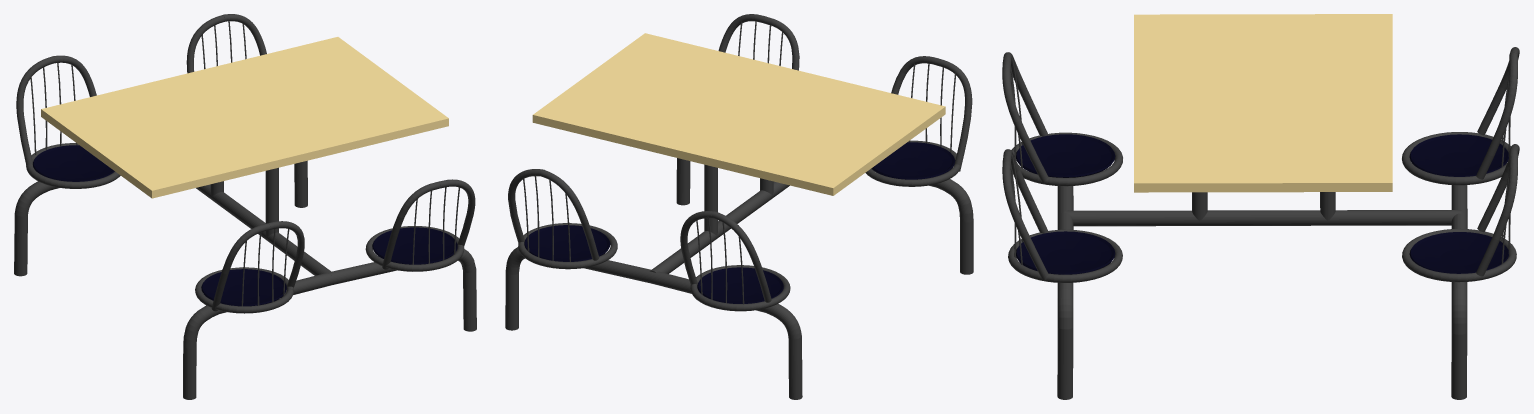
Rendered from Mesa.obj.
The picture shows the model from 3 angles, left to right: view 1: azimuth 30°, elevation 25°; view 2: azimuth 150°, elevation 25°; view 3: azimuth 270°, elevation 25°; orthographic projection. The views are drawn at different scales.
Visible parts, largest first — view 1: Mesh.007_Plane_Plane.001, Mesh.018_Sphere.001_Sphere.003, Mesh.016_Sphere.004_Sphere.006, Mesh.009_Sphere.005_Sphere.007, Mesh.031_Cylinder.005_Cylinder, Mesh.002_Cylinder.003_Cylinder, Mesh.003_Cylinder.002_Cylinder, Mesh.025_Cylinder.004_Cylinder, Mesh.001_Mesh.021_Cylinder.010, Mesh.004_Cylinder.011_Cylinder, Mesh.006_Cylinder.012_Cylinder, Mesh.037_Cylinder.009_Cylinder (+9 smaller); view 2: Mesh.007_Plane_Plane.001, Mesh.027_Sphere.002_Sphere.004, Mesh.016_Sphere.004_Sphere.006, Mesh.009_Sphere.005_Sphere.007, Mesh.025_Cylinder.004_Cylinder, Mesh.034_Cylinder.006_Cylinder, Mesh.003_Cylinder.002_Cylinder, Mesh.031_Cylinder.005_Cylinder, Mesh.037_Cylinder.009_Cylinder, Mesh.029_Cylinder_Cylinder.006, Mesh.022_Mesh.018_Cylinder.014, Mesh.001_Mesh.021_Cylinder.010 (+9 smaller); view 3: Mesh.007_Plane_Plane.001, Mesh.003_Cylinder.002_Cylinder, Mesh.016_Sphere.004_Sphere.006, Mesh.018_Sphere.001_Sphere.003, Mesh.009_Sphere.005_Sphere.007, Mesh.027_Sphere.002_Sphere.004, Mesh.002_Cylinder.003_Cylinder, Mesh.034_Cylinder.006_Cylinder, Mesh.029_Cylinder_Cylinder.006, Mesh.004_Cylinder.011_Cylinder, Mesh.037_Cylinder.009_Cylinder, Mesh.001_Mesh.021_Cylinder.010 (+10 smaller).
Part boxes in pixels (<box>): Mesh.007_Plane_Plane.001: <box>41,37,448,198</box>; Mesh.018_Sphere.001_Sphere.003: <box>372,227,457,264</box>; Mesh.016_Sphere.004_Sphere.006: <box>201,269,286,306</box>; Mesh.009_Sphere.005_Sphere.007: <box>33,145,114,181</box>; Mesh.031_Cylinder.005_Cylinder: <box>183,273,333,399</box>; Mesh.002_Cylinder.003_Cylinder: <box>330,249,476,331</box>; Mesh.003_Cylinder.002_Cylinder: <box>196,184,331,275</box>; Mesh.025_Cylinder.004_Cylinder: <box>14,181,59,276</box>; Mesh.001_Mesh.021_Cylinder.010: <box>195,267,293,313</box>; Mesh.004_Cylinder.011_Cylinder: <box>365,226,464,271</box>; Mesh.006_Cylinder.012_Cylinder: <box>16,56,57,164</box>; Mesh.037_Cylinder.009_Cylinder: <box>26,143,120,188</box>; Mesh.007_Plane_Plane.001: <box>532,33,945,195</box>; Mesh.027_Sphere.002_Sphere.004: <box>524,225,610,261</box>; Mesh.016_Sphere.004_Sphere.006: <box>872,142,955,179</box>; Mesh.009_Sphere.005_Sphere.007: <box>697,267,783,303</box>; Mesh.025_Cylinder.004_Cylinder: <box>650,271,802,399</box>; Mesh.034_Cylinder.006_Cylinder: <box>505,247,652,330</box>; Mesh.003_Cylinder.002_Cylinder: <box>650,181,789,273</box>; Mesh.031_Cylinder.005_Cylinder: <box>871,168,973,274</box>; Mesh.037_Cylinder.009_Cylinder: <box>690,265,790,311</box>; Mesh.029_Cylinder_Cylinder.006: <box>518,223,617,269</box>; Mesh.022_Mesh.018_Cylinder.014: <box>935,58,972,171</box>; Mesh.001_Mesh.021_Cylinder.010: <box>865,140,960,186</box>; Mesh.007_Plane_Plane.001: <box>1134,14,1392,192</box>; Mesh.003_Cylinder.002_Cylinder: <box>1064,210,1461,226</box>; Mesh.016_Sphere.004_Sphere.006: <box>1016,134,1115,177</box>; Mesh.018_Sphere.001_Sphere.003: <box>1016,231,1115,274</box>; Mesh.009_Sphere.005_Sphere.007: <box>1409,134,1508,176</box>; Mesh.027_Sphere.002_Sphere.004: <box>1409,232,1508,273</box>; Mesh.002_Cylinder.003_Cylinder: <box>1057,212,1073,399</box>; Mesh.034_Cylinder.006_Cylinder: <box>1451,212,1467,399</box>; Mesh.029_Cylinder_Cylinder.006: <box>1402,228,1516,282</box>; Mesh.004_Cylinder.011_Cylinder: <box>1008,229,1122,282</box>; Mesh.037_Cylinder.009_Cylinder: <box>1402,132,1510,185</box>; Mesh.001_Mesh.021_Cylinder.010: <box>1011,132,1122,186</box>.
Size of the model in its own units: 2.4 by 1.45 by 3.11.
